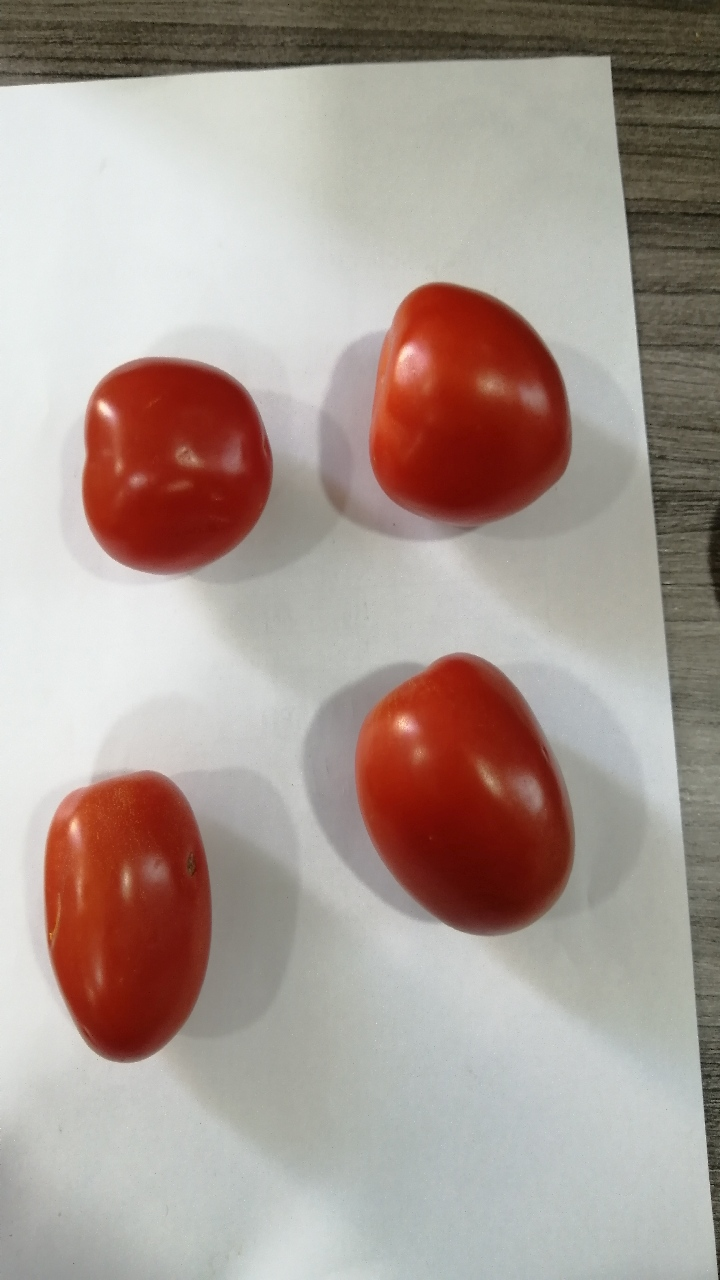tomateRojo: (332, 634, 600, 963), (337, 255, 589, 555), (15, 752, 221, 1088), (60, 337, 292, 606)
